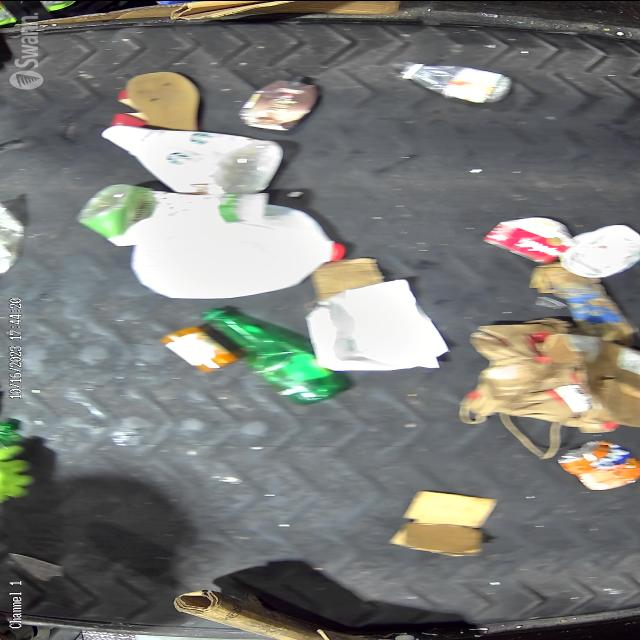can: (477, 208, 575, 264), (79, 184, 162, 248), (552, 438, 640, 492), (162, 324, 240, 374)
milk_jug: (129, 197, 348, 297), (100, 126, 286, 194)
plastic_bottle: (198, 306, 340, 404), (394, 60, 520, 103)
